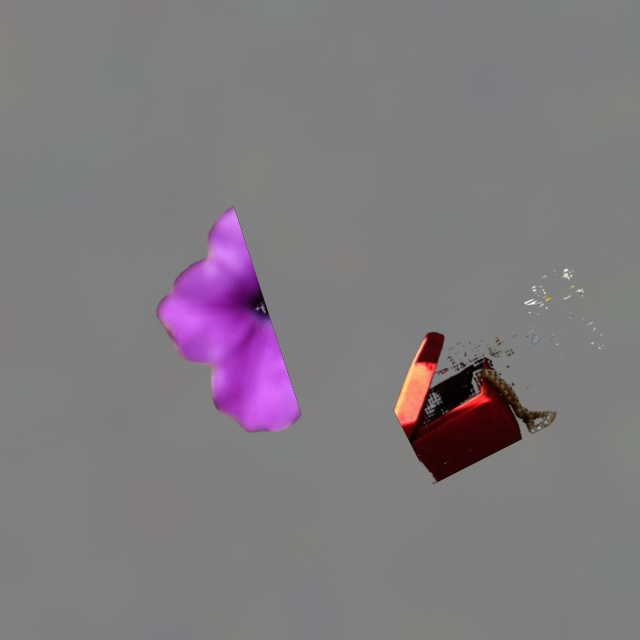daisy: (394, 269, 603, 483)
petunia: (156, 206, 300, 432)
